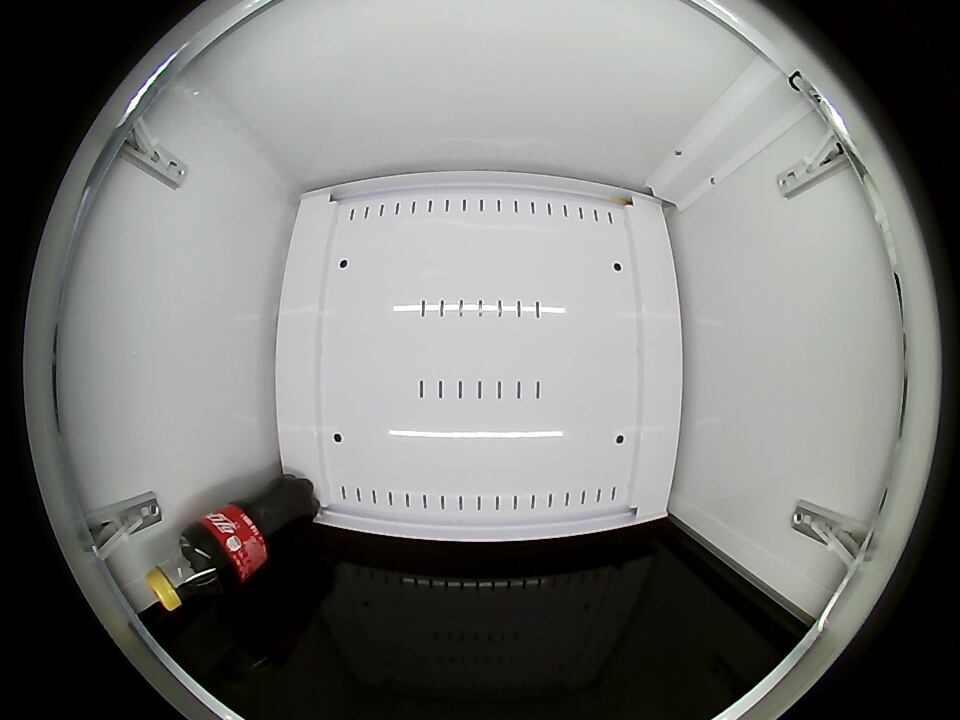kele-b-2: (146, 533, 224, 611)
